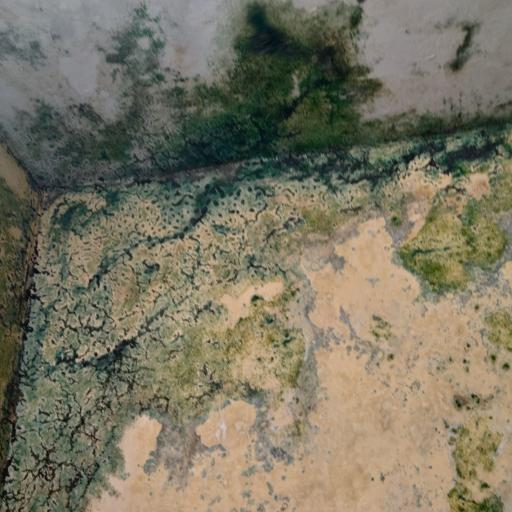algae: (15, 8, 512, 512)
